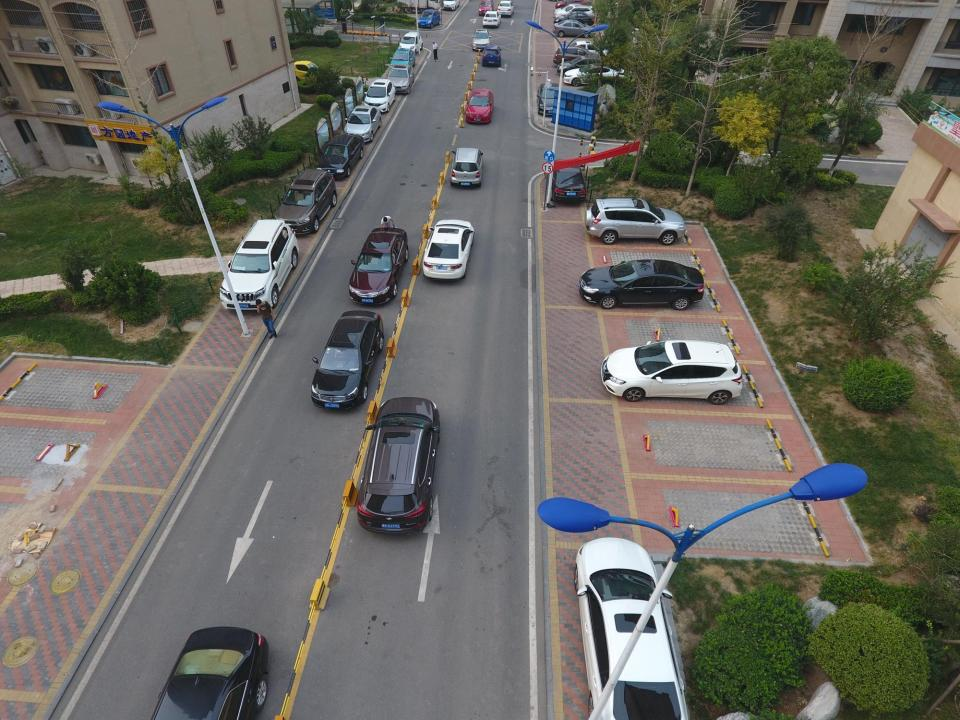car: (571, 534, 690, 720), (356, 398, 440, 532), (150, 625, 268, 720), (600, 339, 743, 404), (310, 309, 384, 408), (219, 220, 299, 310), (580, 258, 704, 309), (586, 197, 688, 246), (348, 228, 409, 306), (274, 169, 337, 234), (424, 219, 475, 281), (315, 134, 365, 178), (549, 158, 589, 202), (341, 105, 382, 143), (450, 148, 484, 187), (363, 78, 396, 114), (564, 66, 624, 85), (557, 55, 612, 75), (536, 83, 566, 116), (465, 89, 494, 122), (290, 61, 328, 85), (553, 45, 601, 64), (387, 65, 416, 94), (565, 40, 610, 57), (552, 20, 596, 37), (389, 48, 416, 73), (397, 31, 423, 56), (553, 11, 595, 26), (556, 5, 596, 20), (417, 10, 441, 28), (472, 29, 491, 50), (483, 45, 501, 67), (554, 4, 586, 15), (496, 0, 515, 18), (554, 0, 588, 10), (483, 10, 501, 27), (478, 0, 494, 17), (441, 0, 461, 12)
truck: (397, 0, 442, 14)
